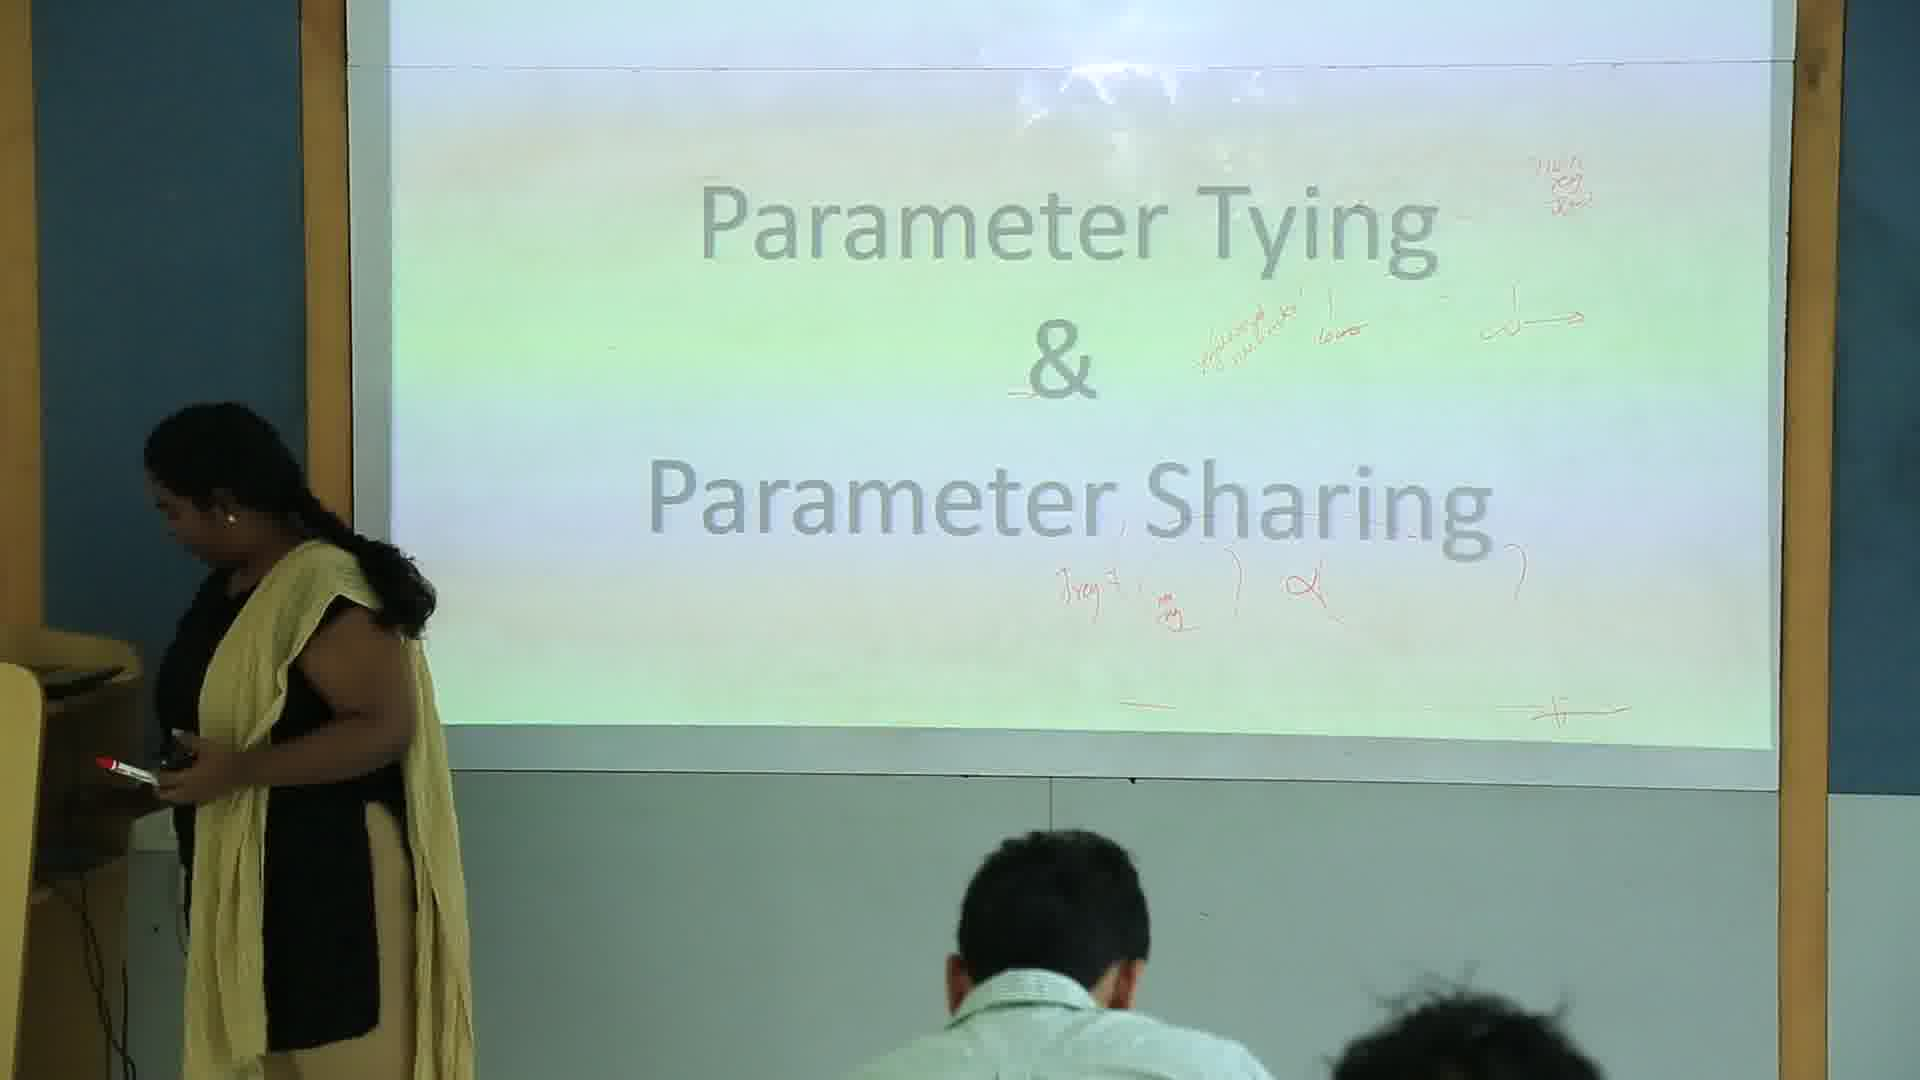slide: (392, 1, 1778, 746)
